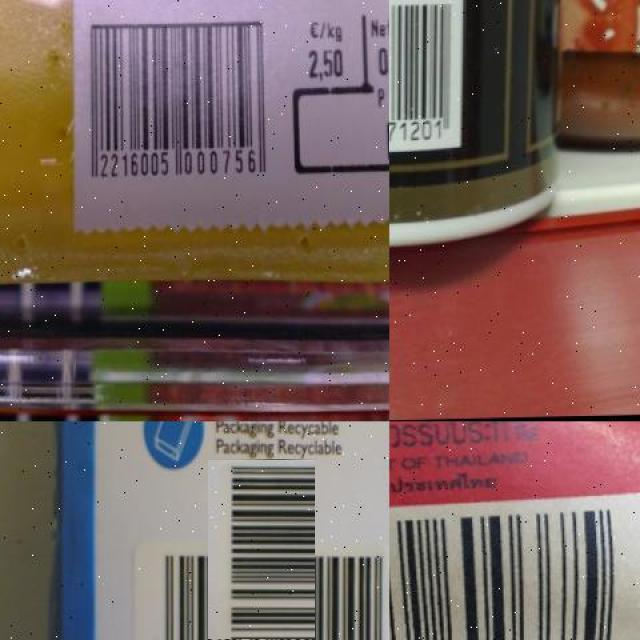Barcode: (82, 7, 281, 204), (389, 506, 638, 640), (170, 495, 352, 640), (390, 0, 466, 152)
